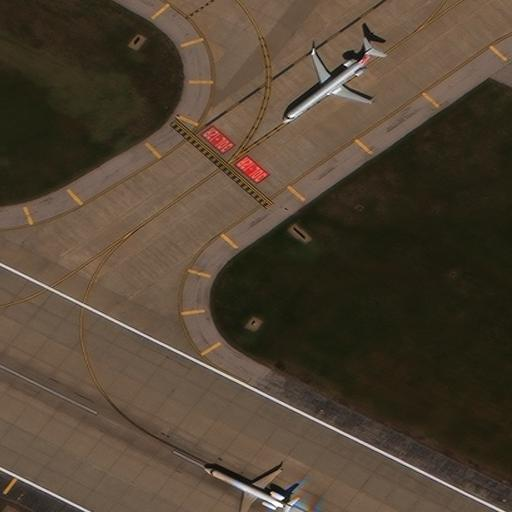Medium Civil Transport: (282, 46, 372, 121), (205, 470, 292, 512)
